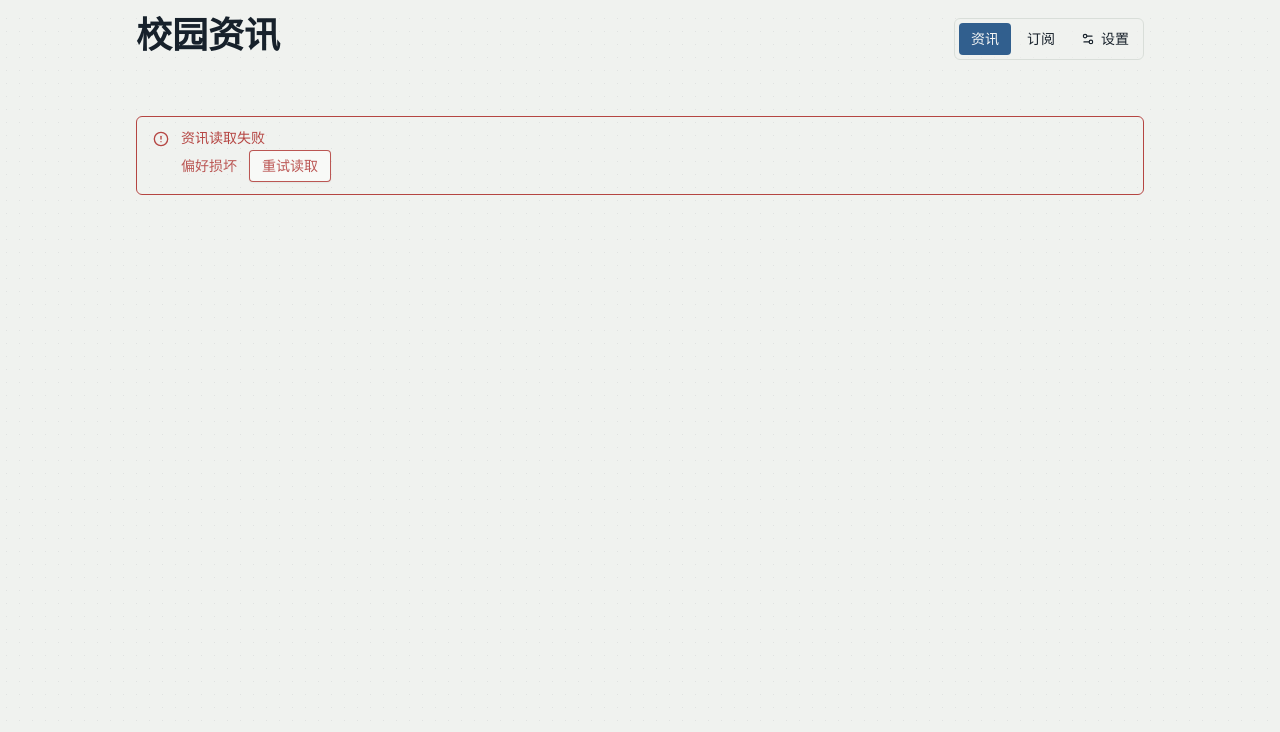
Test: campus-feed view › shows a real load failure and retries getSnapshot
Check: the text "资讯读取失败" is shown, box [181,130,265,146]
Click the button "重试读取" at (290, 166), box [249,150,331,182]
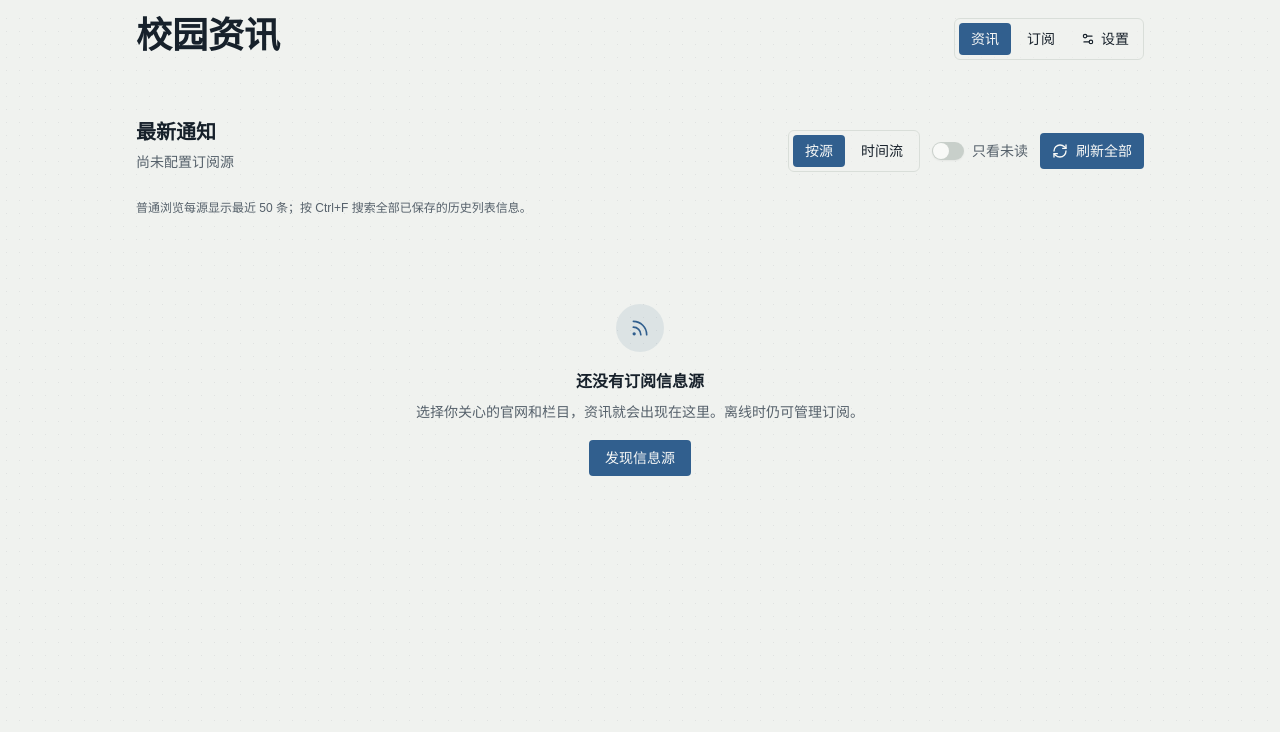
Check: the heading "还没有订阅信息源" is shown, box [576,373,704,390]
